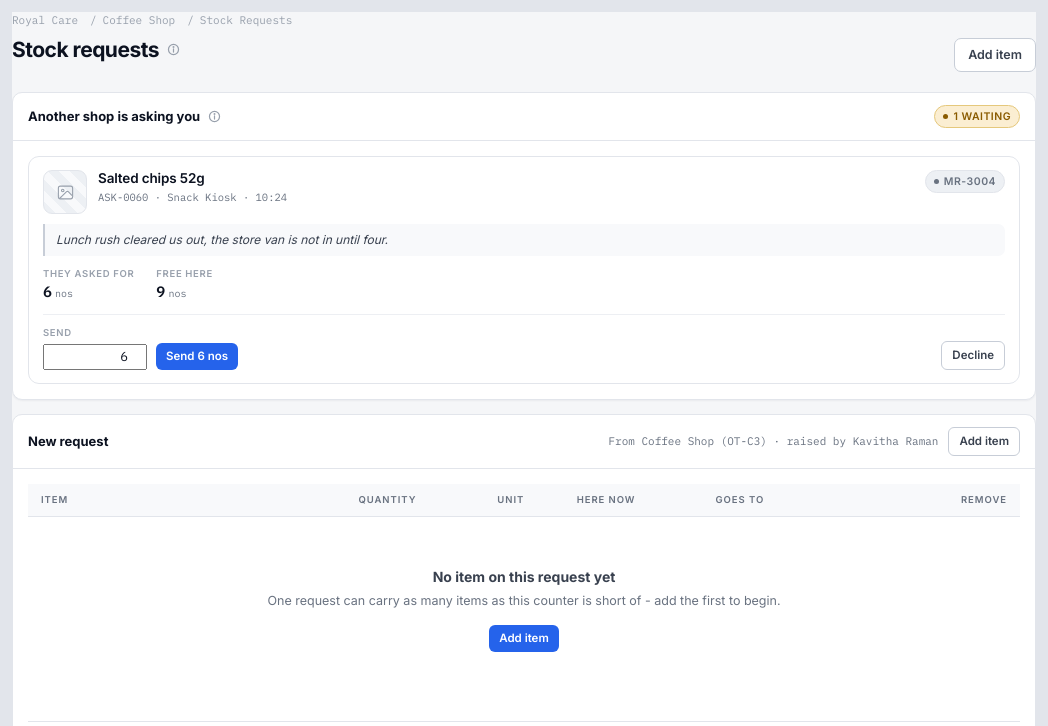
Test case: the counter's stock requests › routes each line to the desk its own item names, with no source ever picked
Click the 1st button "Add item": [995, 55] box [954,38,1036,72]
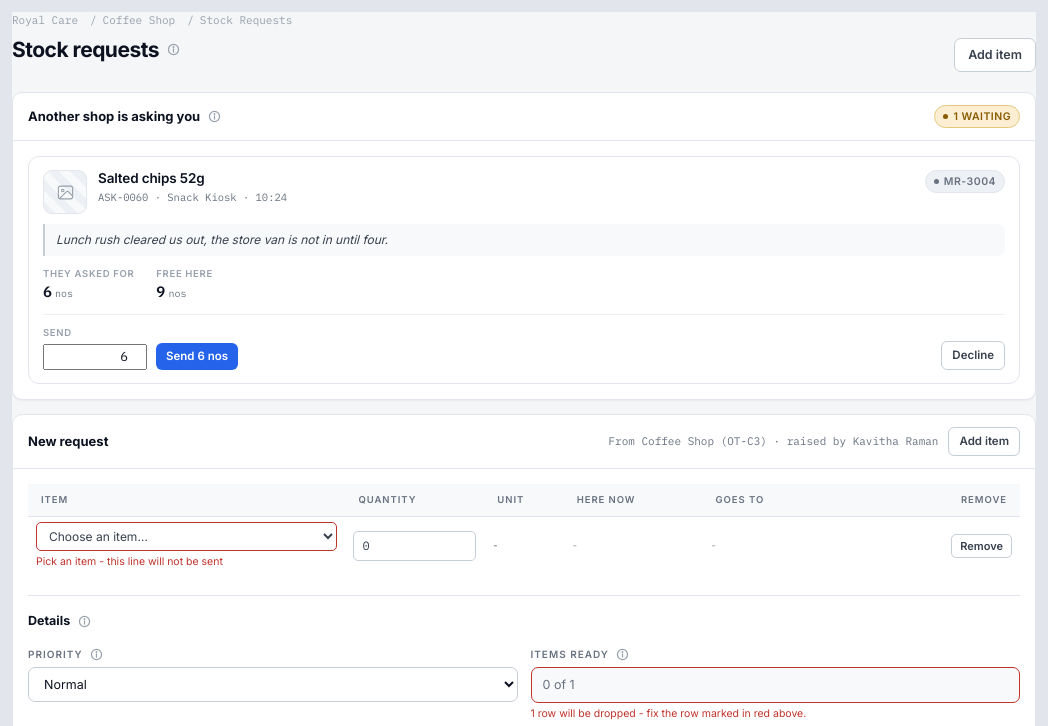
Click the 1st button "Add item": [995, 55] box [954,38,1036,72]
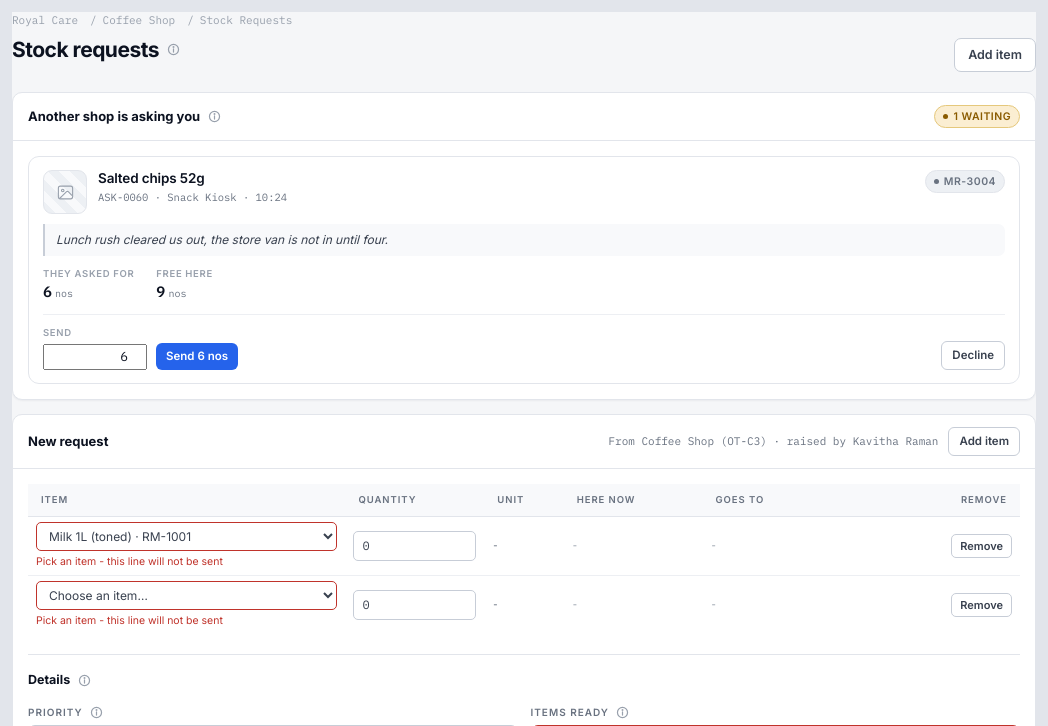
Select "Milk 1L (toned) · RM-1001" in the dropdown named "Item on row 1": [187, 537] box [36,522,337,551]
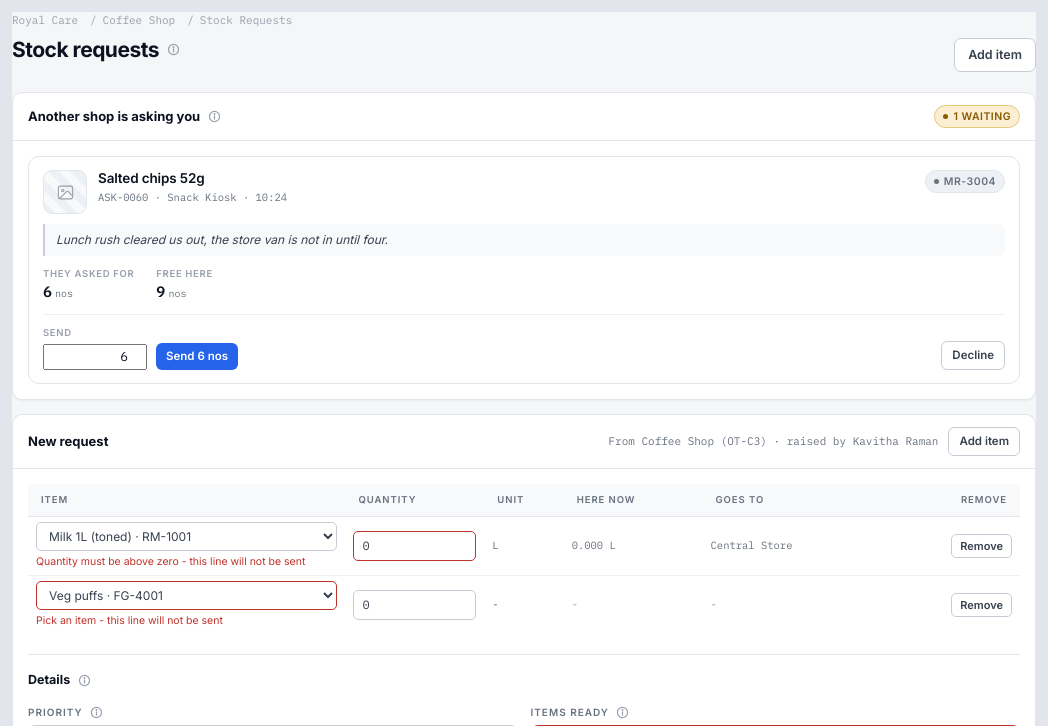
Select "Veg puffs · FG-4001" in the dropdown named "Item on row 2": [187, 595] box [36,581,337,610]
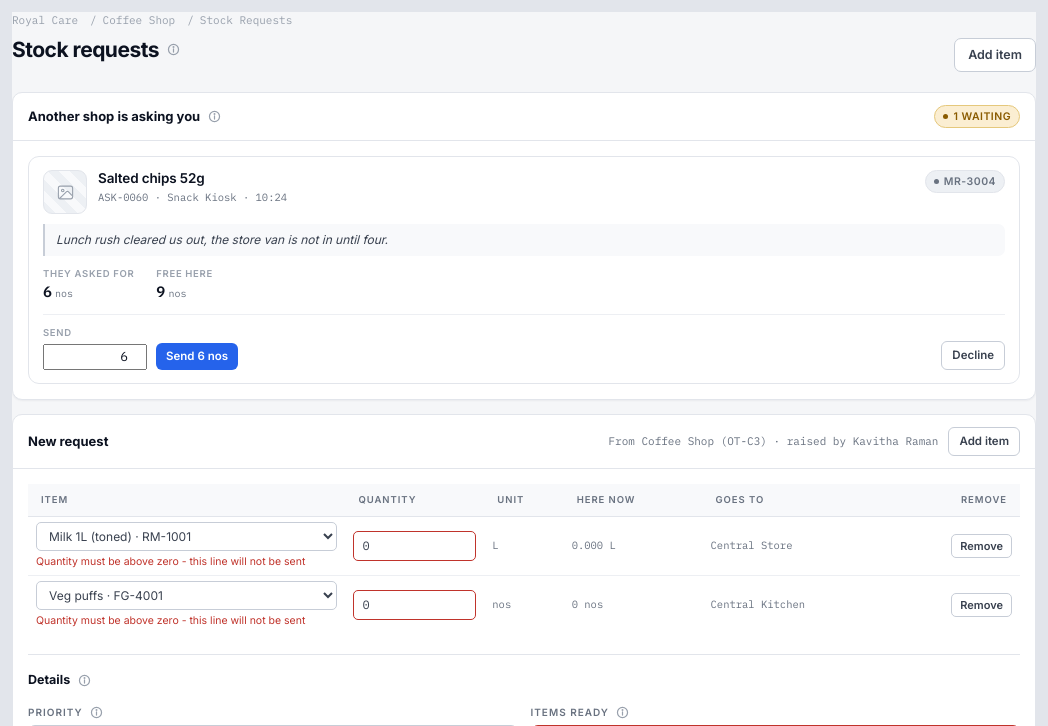
Check: the cell "Central Store" is shown, box [702,517,881,576]
Check: the cell "Central Kitchen" is shown, box [702,576,881,634]
